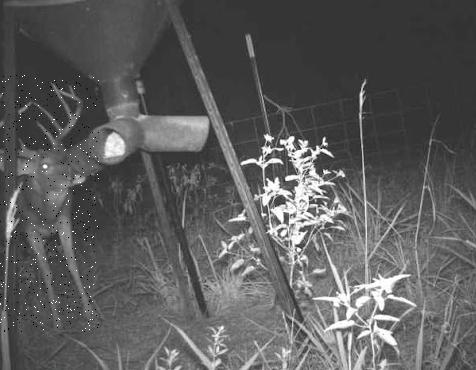Deer: (0, 75, 99, 332)
